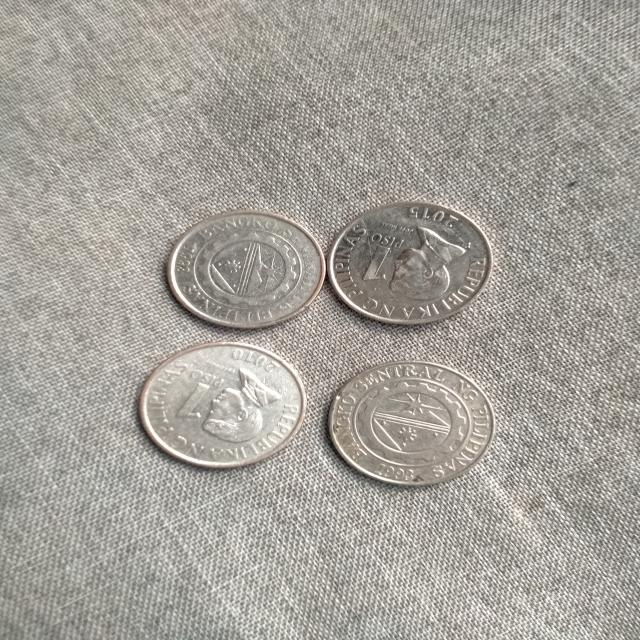1_Old_Back: (349, 372, 468, 474), (192, 224, 302, 313)
